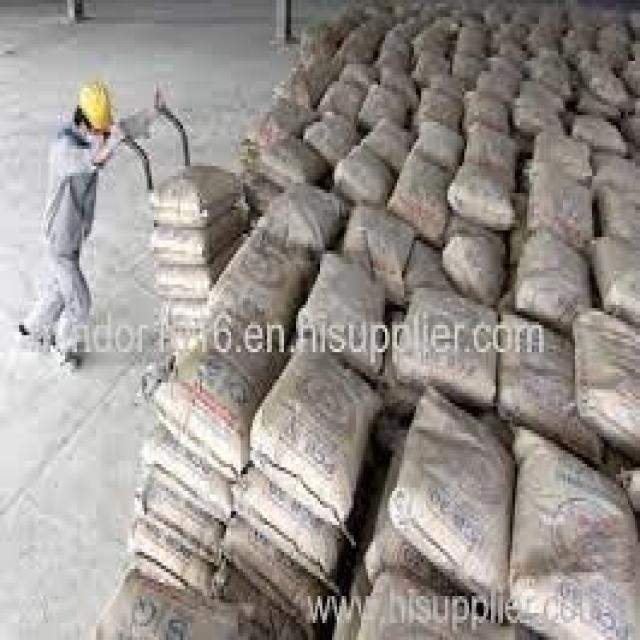gunny_bag: (393, 385, 517, 622), (512, 420, 639, 640), (251, 335, 384, 523), (158, 313, 291, 483), (499, 313, 603, 462), (208, 229, 319, 348), (232, 476, 342, 593), (396, 283, 497, 404), (222, 525, 321, 640), (296, 250, 385, 377), (97, 572, 263, 640), (575, 312, 640, 450), (141, 430, 229, 523), (513, 232, 590, 325), (135, 485, 223, 564), (343, 205, 414, 301), (149, 202, 249, 267), (153, 232, 248, 300), (261, 183, 348, 250), (151, 164, 240, 228), (443, 217, 507, 303), (390, 156, 448, 244), (533, 162, 593, 246), (448, 161, 516, 232), (585, 236, 640, 320), (246, 93, 321, 149), (274, 52, 342, 111), (257, 135, 326, 191), (332, 146, 395, 207), (465, 123, 519, 191), (300, 112, 360, 164), (534, 132, 591, 181), (414, 120, 464, 172), (364, 118, 413, 170), (411, 89, 462, 138), (597, 188, 640, 244), (462, 91, 509, 139), (360, 84, 408, 130), (578, 62, 627, 105), (318, 81, 365, 123), (570, 114, 626, 149), (512, 95, 562, 134), (158, 303, 206, 336), (412, 49, 451, 88), (335, 25, 375, 63), (383, 65, 418, 108), (477, 73, 516, 100), (340, 63, 376, 90), (453, 58, 482, 87), (376, 47, 408, 71)
